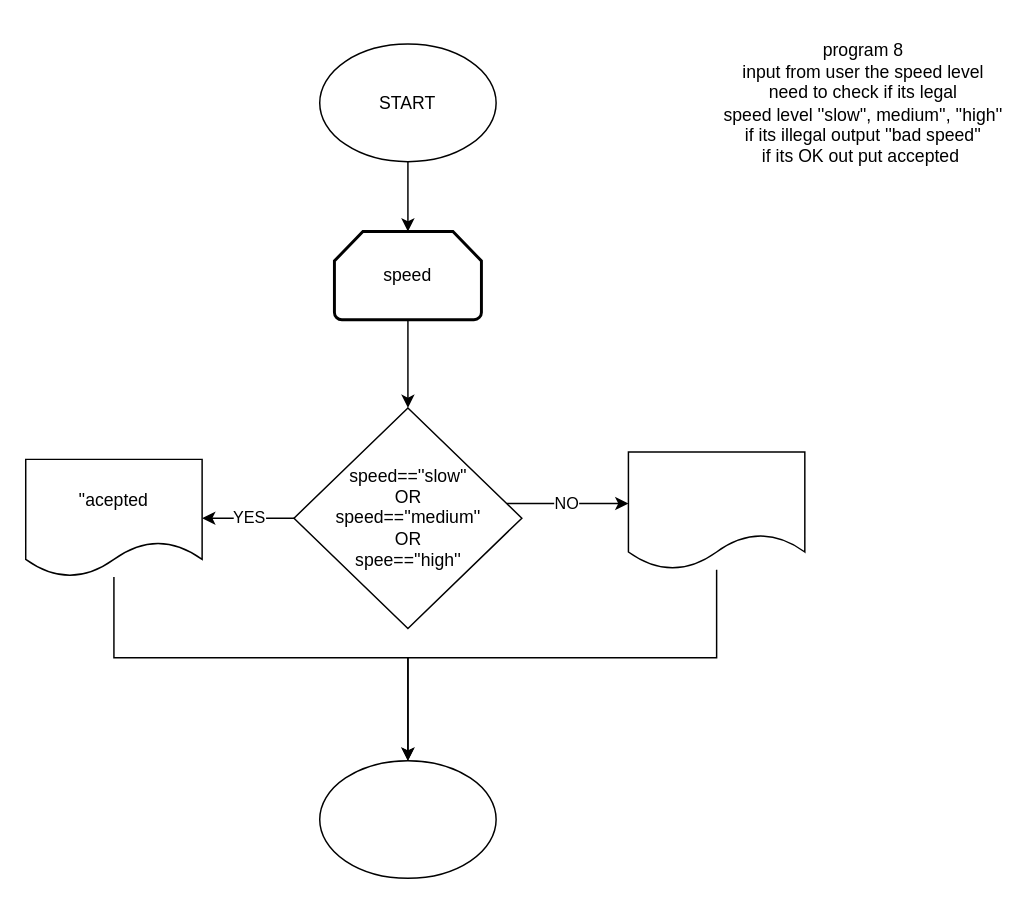
Some shapes in this 1036 by 904 pixel diagram are drawn without their labels. The shapes that lost their labels are listed below. From the top down, each one's box as (x1, y1, x2, y2) in pixels, then its label:
(627, 451, 805, 570): ''illegal speed''
(318, 759, 496, 878): STOP
